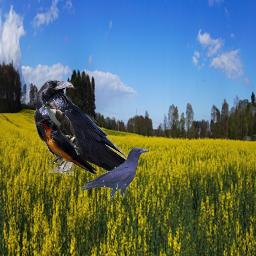Crow: (34, 79, 137, 184), (80, 147, 148, 202)
Cuckoo: (43, 102, 83, 155)
Swallow: (35, 118, 97, 176)
